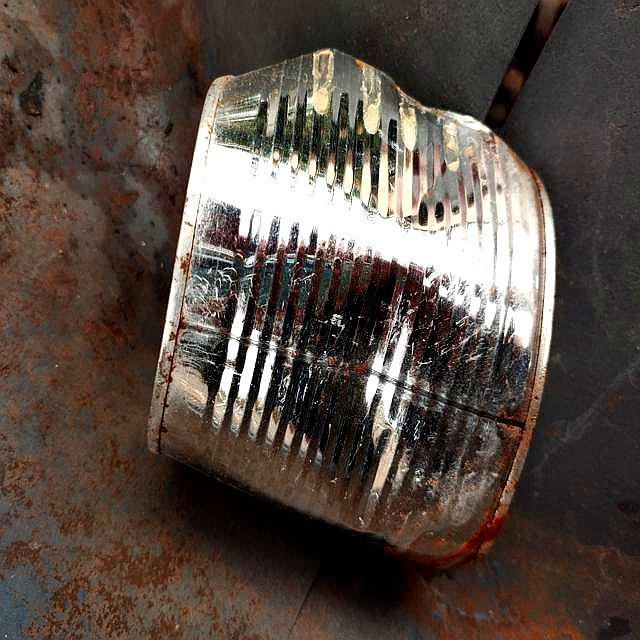Non-biodegradable: (144, 47, 559, 571)
